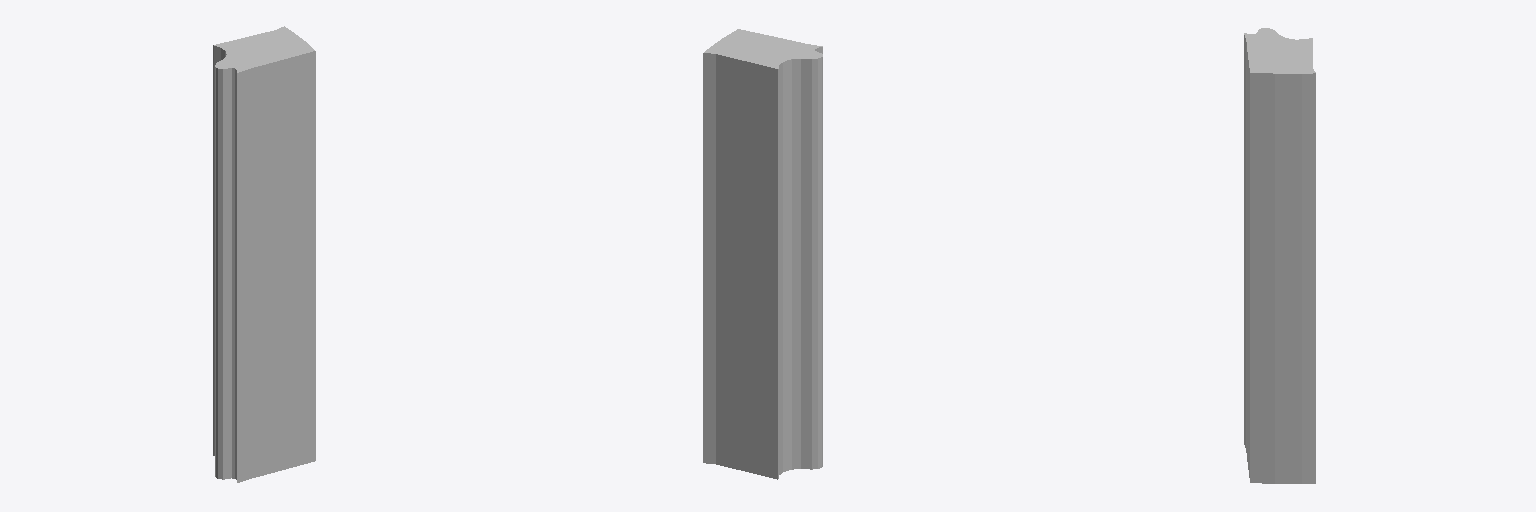
3 renders of one model, left to right at view 1: azimuth 30°, elevation 25°; view 2: azimuth 150°, elevation 25°; view 3: azimuth 270°, elevation 25°, orthographic.
Visible parts, largest first — view 1: GQ.002_CUCurve.1849; view 2: GQ.002_CUCurve.1849; view 3: GQ.002_CUCurve.1849.
Boxes of the visible parts, x1=… form: GQ.002_CUCurve.1849: x1=213, y1=26, x2=315, y2=482; GQ.002_CUCurve.1849: x1=703, y1=29, x2=822, y2=479; GQ.002_CUCurve.1849: x1=1244, y1=28, x2=1315, y2=483.
Size of the model in its own units: 0.012 by 0.05 by 0.008.